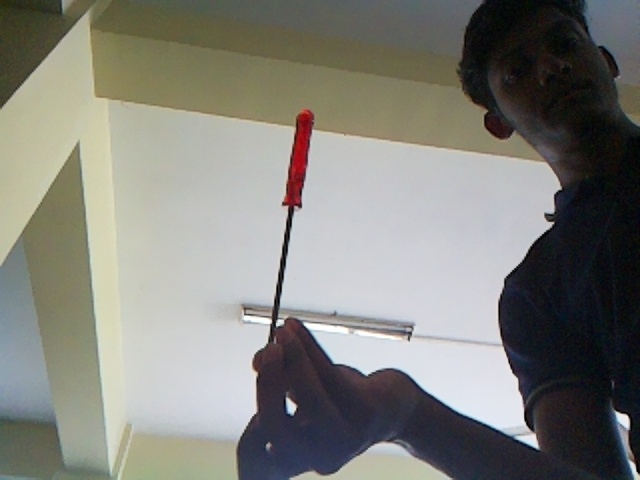redskrew: (267, 105, 313, 334)
